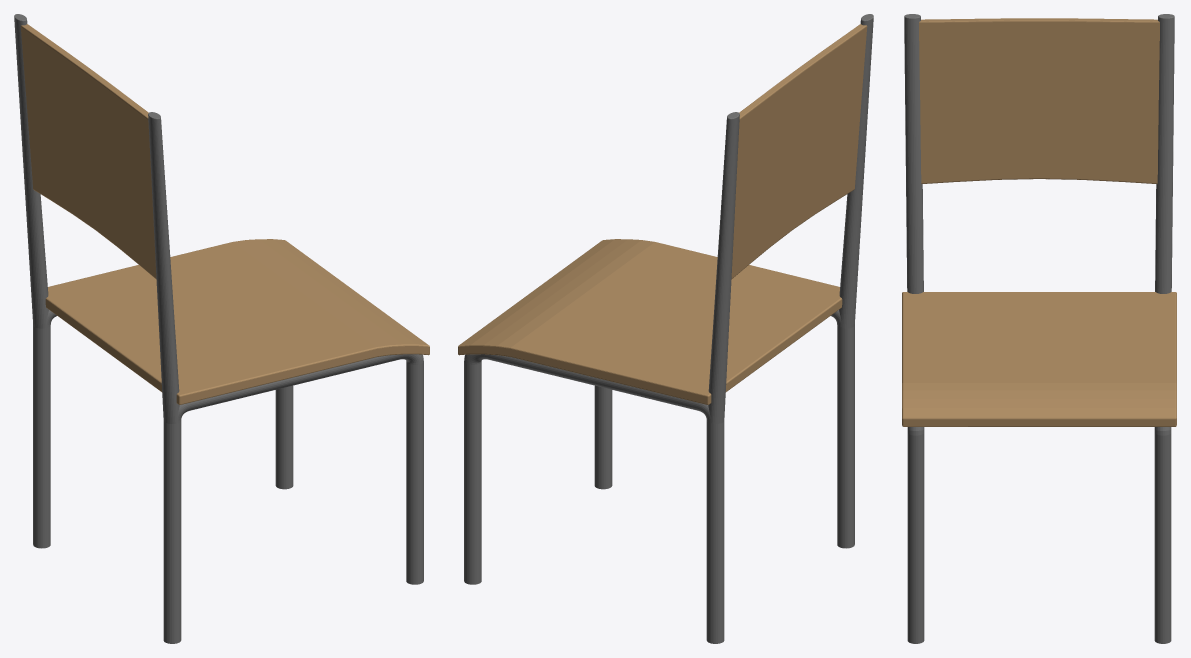
Rendered from chair.glb.
3 views of the same model, side by side, from view 1: azimuth 30°, elevation 25°; view 2: azimuth 150°, elevation 25°; view 3: azimuth 270°, elevation 25° (orthographic). The views are drawn at different scales.
Parts seen in each view (by area): view 1: Cube, Cylinder.001, Cube.001; view 2: Cube, Cylinder.001, Cube.001; view 3: Cube.001, Cube, Cylinder.001.
Part boxes in pixels (x1=…): Cube: x1=45, y1=239, x2=429, y2=404; Cylinder.001: x1=14, y1=14, x2=423, y2=643; Cube.001: x1=20, y1=24, x2=156, y2=279; Cube: x1=458, y1=239, x2=842, y2=404; Cylinder.001: x1=464, y1=14, x2=873, y2=643; Cube.001: x1=731, y1=24, x2=867, y2=279; Cube.001: x1=919, y1=18, x2=1159, y2=183; Cube: x1=902, y1=292, x2=1176, y2=426; Cylinder.001: x1=904, y1=14, x2=1174, y2=643.
Size of the model in its own units: 2.19 by 4.04 by 2.
